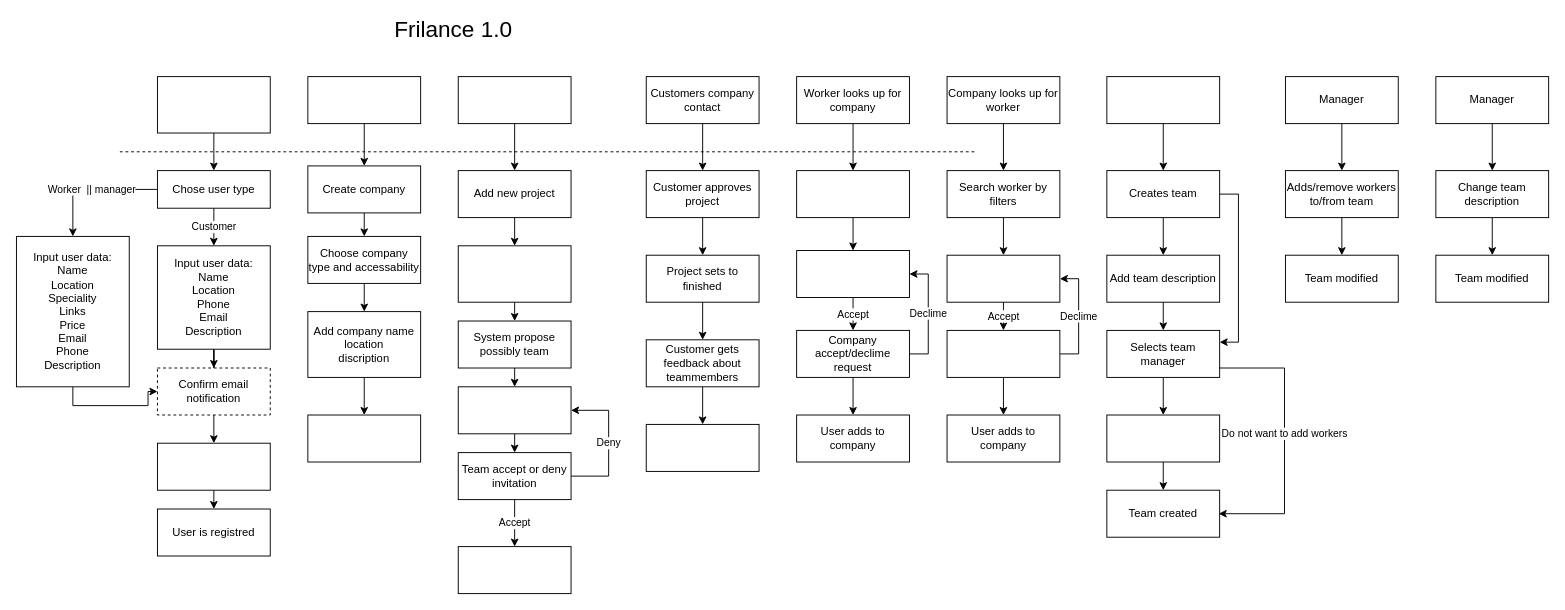
This 1565x610 diagram has some shape labels left out. The shapes that lost their labels are listed below. From the top down, each one's box as (x1, y1, x2, y2) in pixels, then its label:
(157, 76, 270, 133): User
(307, 76, 421, 124): Company contact
(457, 76, 571, 124): Customer company contact
(1106, 76, 1220, 124): Worker comany contact
(796, 170, 909, 218): Search company by filters
(457, 245, 571, 302): Input project's Name Description Budget
(796, 250, 909, 298): Send request to company
(946, 254, 1060, 302): Send request to worker
(946, 329, 1060, 377): Worker accept/declime request
(457, 386, 571, 434): User choose team
(307, 414, 421, 462): Company created
(645, 423, 759, 471): Teammembers gets notification to rate customer
(1106, 414, 1220, 462): May add workers
(157, 442, 270, 490): Send request fro create/join company or become a banch
(457, 546, 571, 594): Project starts
